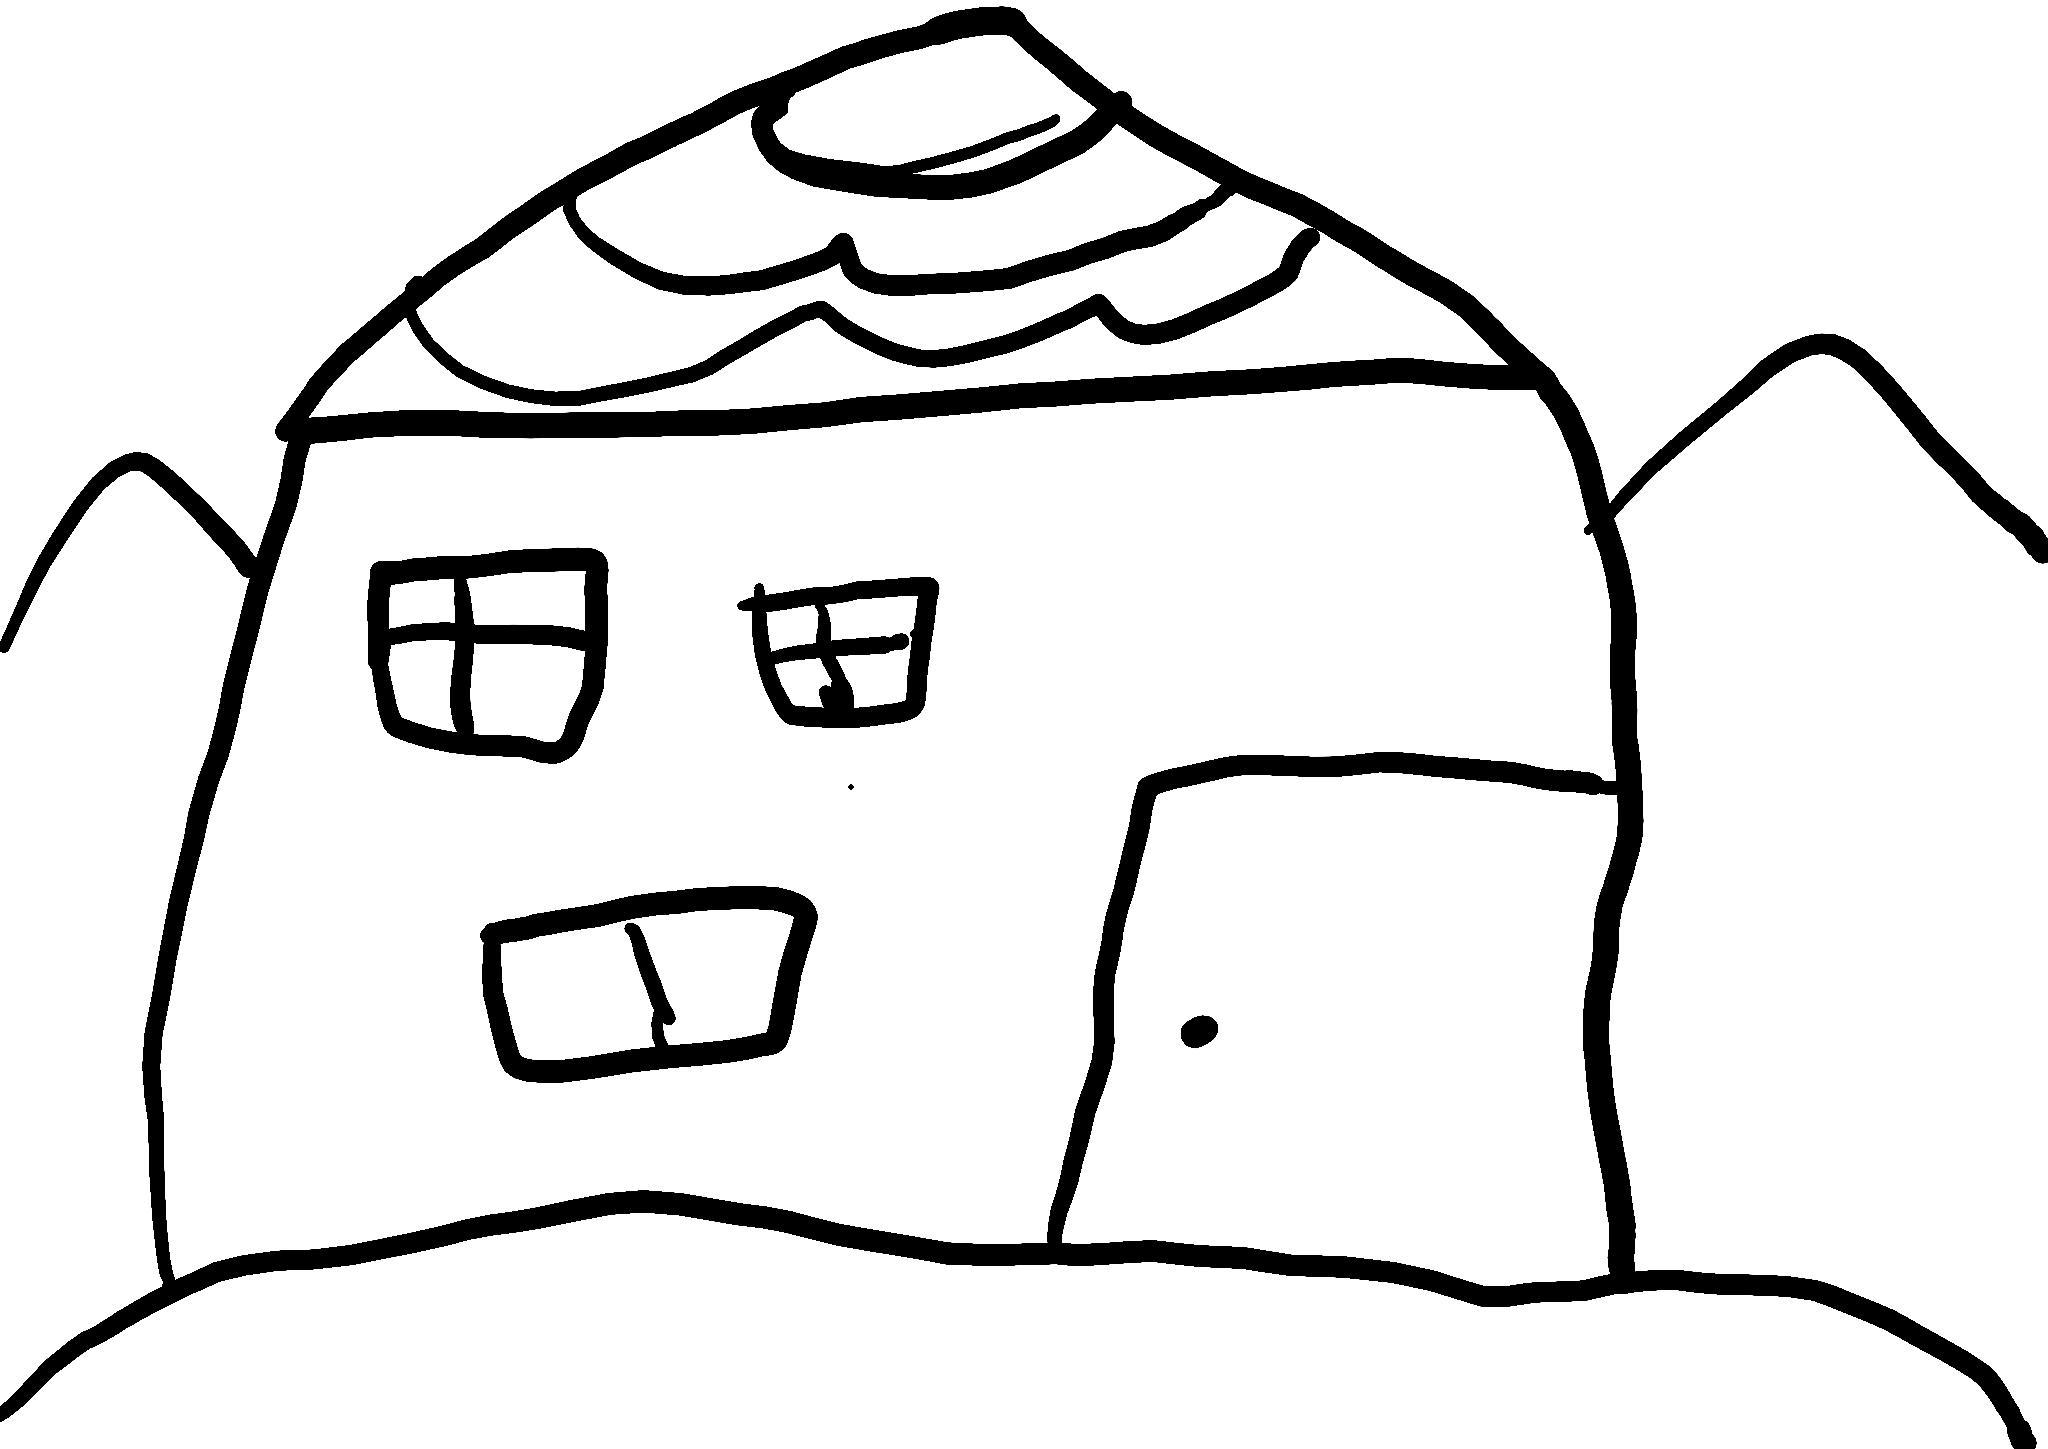door: (1066, 775, 1615, 1283)
house: (155, 22, 1632, 1283)
roof: (315, 6, 1499, 427)
wall: (160, 383, 1621, 1284)
window: (481, 888, 815, 1084), (369, 547, 605, 764), (737, 576, 939, 728)
